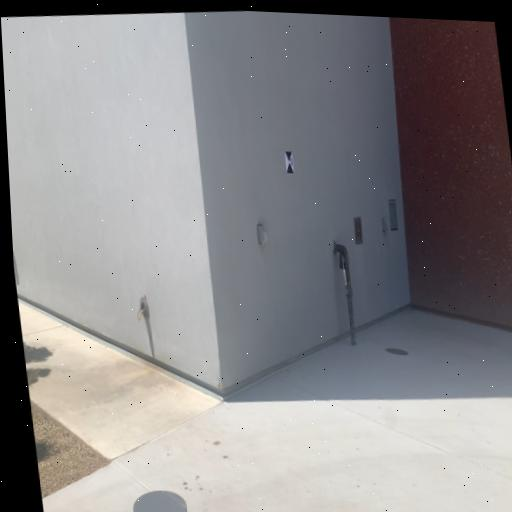target5: (285, 149, 295, 175)
